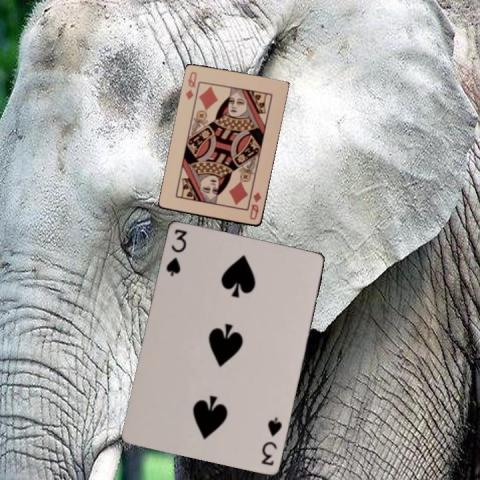3s: (163, 226, 189, 278), (259, 416, 284, 468)
Qd: (246, 190, 262, 222), (182, 69, 198, 101)
